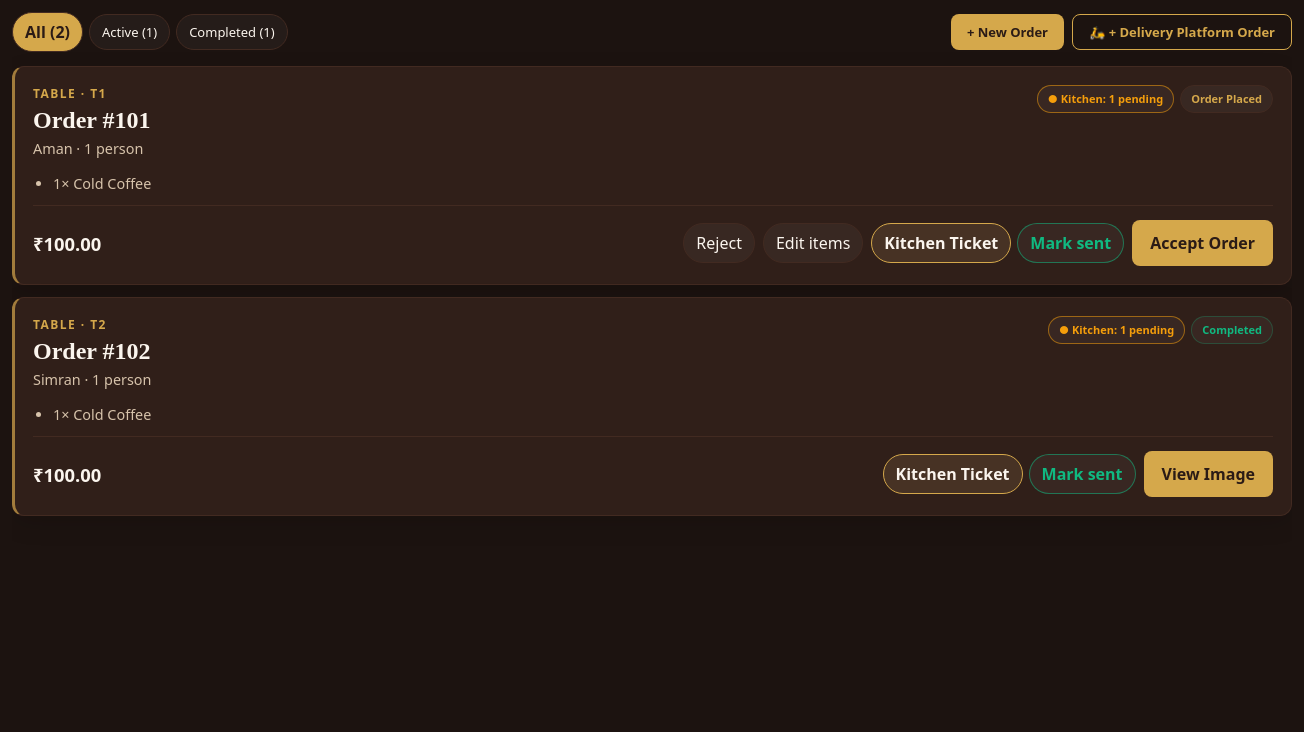
Test: OrderBoard Simplified Workflow & Clean Interface › allows filtering by All, Active, and Completed tabs
expect the heading "Order #101" is shown: met, box left=33, top=107, right=150, bottom=133
expect the heading "Order #102" is shown: met, box left=33, top=338, right=150, bottom=364
Note: Switch to Active tab
Click the button "Active (1)".
click(130, 32)  # box left=89, top=14, right=170, bottom=50
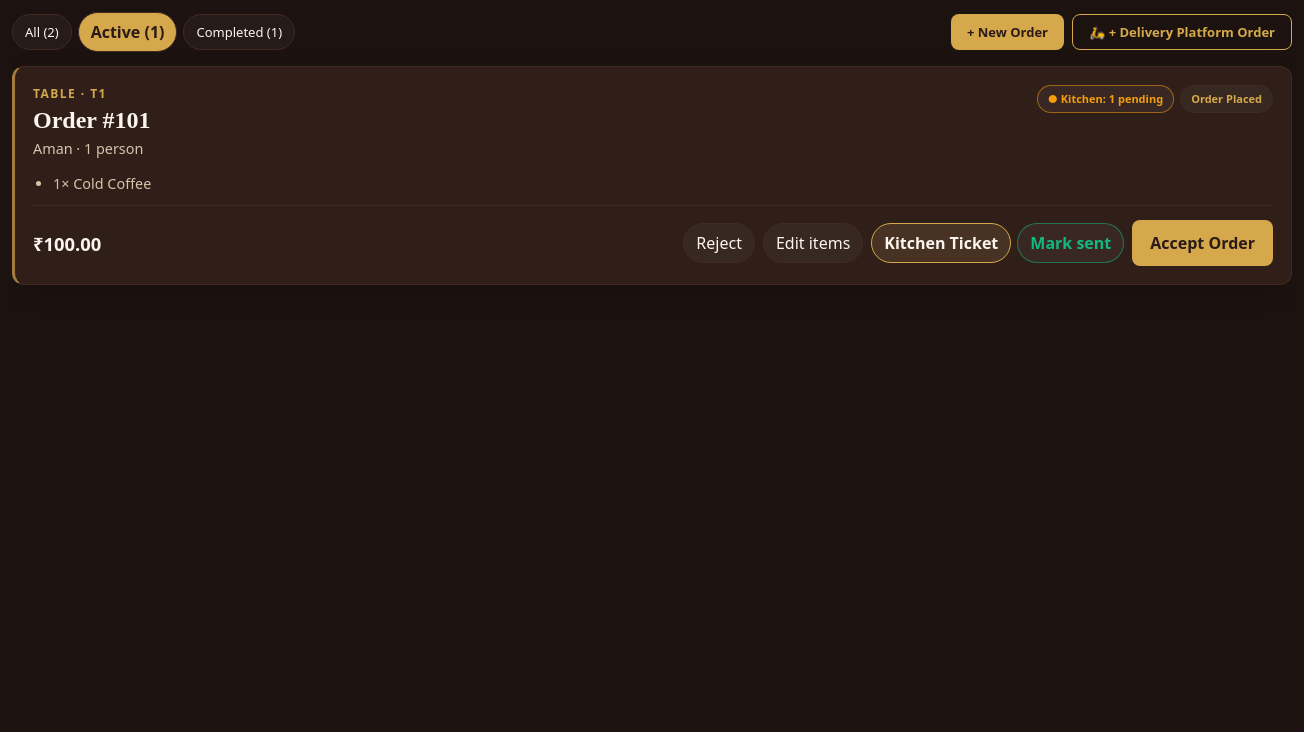
expect the heading "Order #101" is shown: met, box left=33, top=107, right=150, bottom=133
expect the heading "Order #102" is gone: met
Note: Switch to Completed tab
Click the button "Completed (1)".
click(239, 32)  # box left=184, top=14, right=295, bottom=50
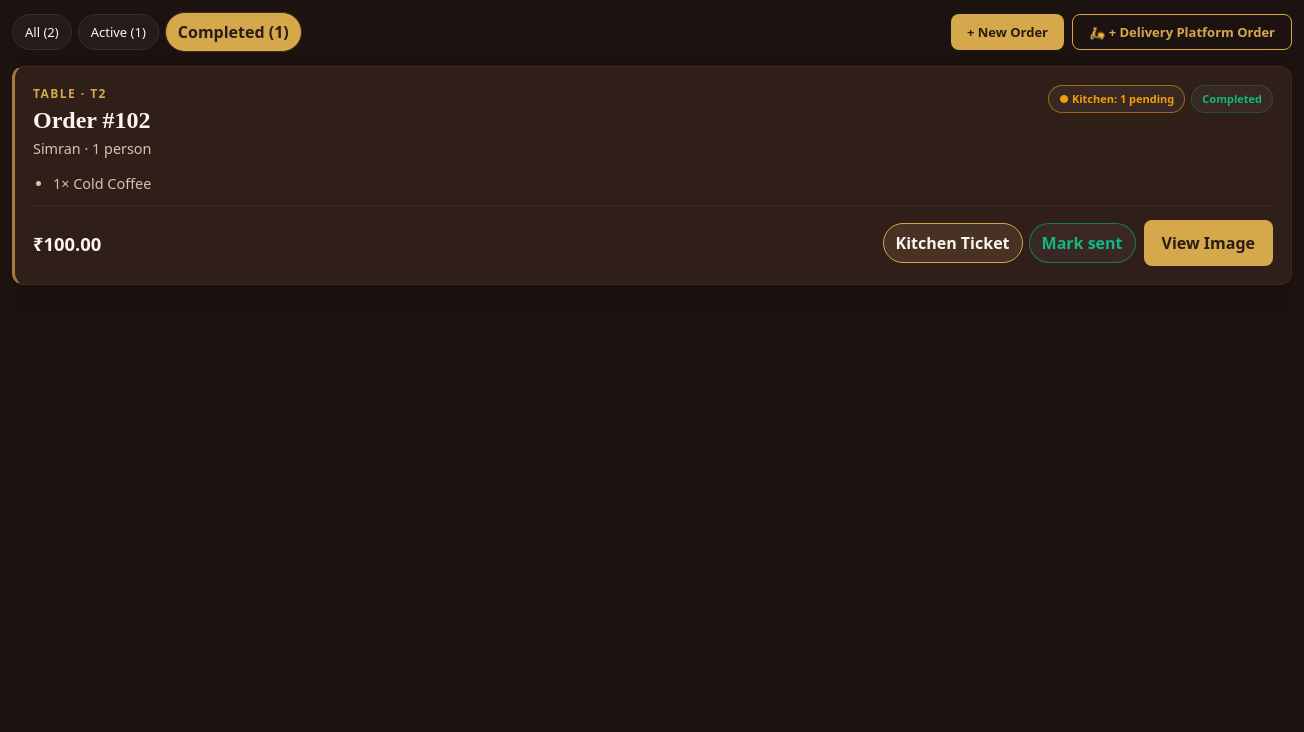
expect the heading "Order #101" is gone: met
expect the heading "Order #102" is shown: met, box left=33, top=107, right=150, bottom=133
